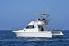fishing boat: (11, 4, 65, 40)
